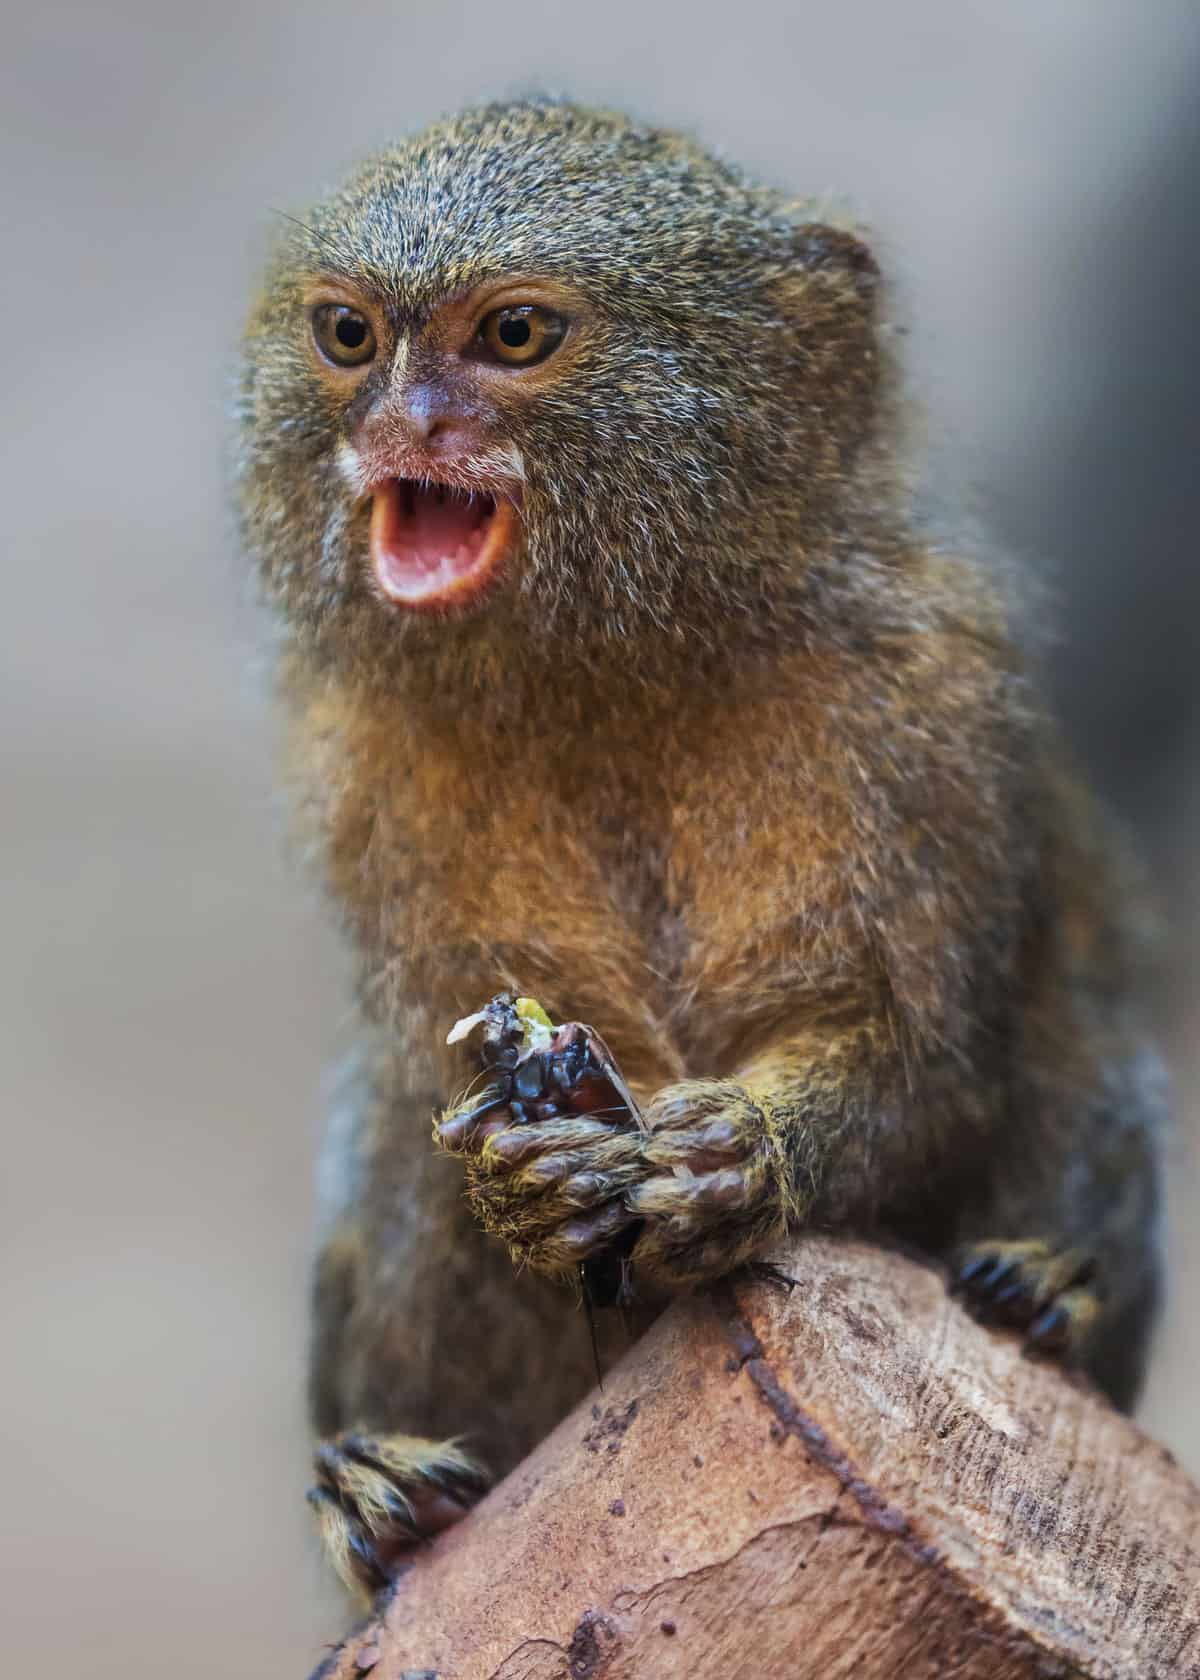PygmyMarmoset: (195, 93, 1165, 1467)
